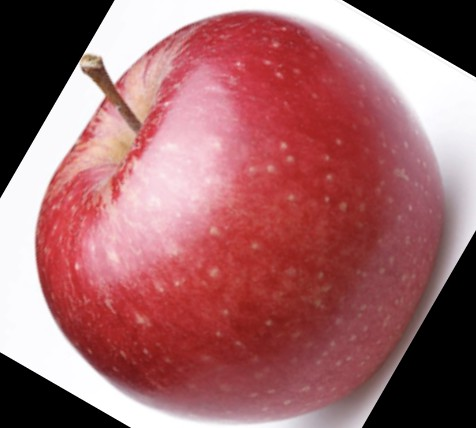fresh_apple: (39, 17, 442, 422)
